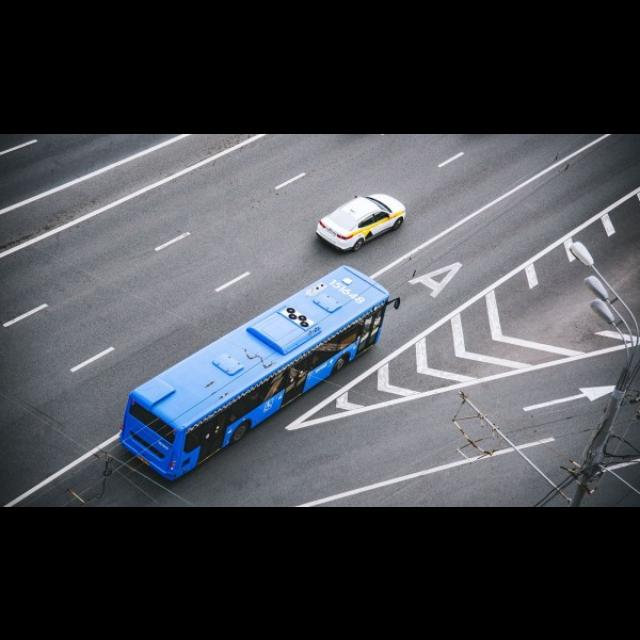road: (0, 133, 639, 504), (493, 240, 621, 351)
